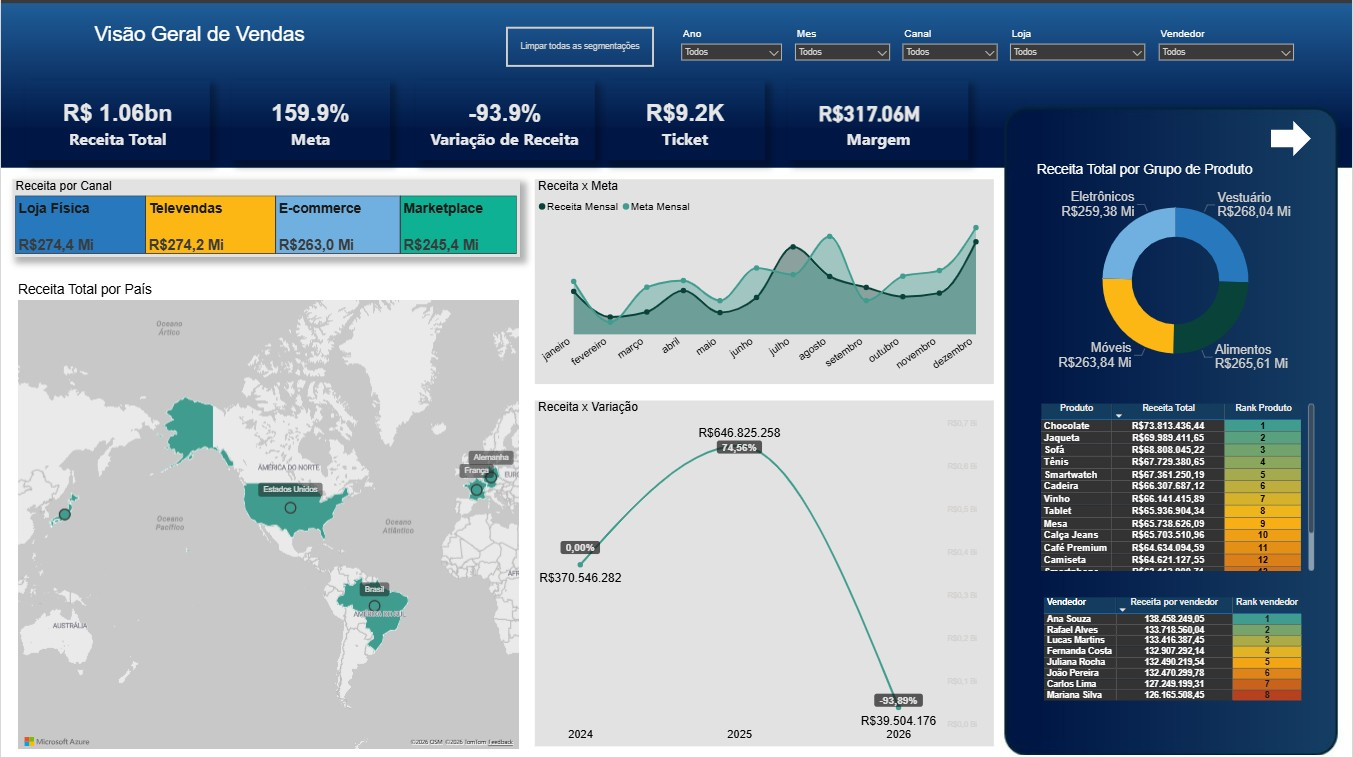

The dashboard page shown, as its layout file describes it:
{"tool":"powerbi","page":{"name":"Vendas","canvas":[2100,1200],"ordinal":0},"visuals":[{"type":"advanceCardE03760C5AB684758B56AA29F9E6C257B","fields":{"mainMeasure":["Medidas.Receita Total"]},"box":[38.7,129,285.9,124.7],"z":0},{"type":"areaChart","title":"Receita x Meta","fields":{"Category":["d_Calendario.Mes"],"Y":["Medidas.Receita Mensal"],"Y2":["Medidas.Meta Mensal"]},"box":[829.9,281.6,713.8,318.2],"z":1000},{"type":"treemap","title":"Receita por Canal","fields":{"Group":["d_canal.canal_de_venda"],"Values":["Medidas.Receita por Canal"]},"box":[18.4,282.2,789.4,120.7],"z":2000},{"type":"tableEx","fields":{"Values":["d_vendedor.nome_vendedor","Medidas.Receita por Vendedor","Medidas.Rank Vendedor"]},"box":[1615.6,926.4,421.3,192.2],"z":3000},{"type":"tableEx","fields":{"Values":["d_produto.nome_produto","Medidas.Receita Total","Medidas.Rank Produto"]},"box":[1611.5,625.8,435.6,269.9],"z":4000},{"type":"lineStackedColumnComboChart","title":"Receita x Variação","fields":{"Category":["d_Calendario.Ano"],"Y2":["Medidas.Receita Total"],"Y":["Medidas.% Crescimento YoY"]},"box":[830.3,625.8,713.7,537.8],"z":5000},{"type":"advanceCardE03760C5AB684758B56AA29F9E6C257B","fields":{"mainMeasure":["Medidas.% Atingimento Meta"]},"box":[359,129,245.1,124.7],"z":6000},{"type":"advanceCardE03760C5AB684758B56AA29F9E6C257B","fields":{"mainMeasure":["Medidas.Ticket Médio"]},"box":[939.5,129,247.2,124.7],"z":7000},{"type":"advanceCardE03760C5AB684758B56AA29F9E6C257B","fields":{"mainMeasure":["Medidas.Margem Simulada"]},"box":[1223.3,129,279.5,124.7],"z":8000},{"type":"advanceCardE03760C5AB684758B56AA29F9E6C257B","fields":{"mainMeasure":["Medidas.% Crescimento YoY (Correto)"]},"box":[645,129,277.3,124.7],"z":9000},{"type":"azureMap","fields":{"Category":["d_localizacao.pais","d_localizacao.estado","d_localizacao.cidade"]},"box":[21.5,440.7,789,731],"z":10000},{"type":"donutChart","fields":{"Category":["d_produto.categoria"],"Y":["Medidas.Receita Total"]},"box":[1605.3,253.6,441.7,345.6],"z":11000},{"type":"textbox","box":[139.1,32.7,355.8,75.7],"z":12000},{"type":"slicer","fields":{"Values":["d_tempo.ano"]},"box":[1047,40.8,176.3,88.1],"z":13000},{"type":"slicer","fields":{"Values":["d_Calendario.Mes"]},"box":[1223.3,40.8,167.7,88.1],"z":14000},{"type":"slicer","fields":{"Values":["d_canal.canal_de_venda"]},"box":[1391,40.8,167.7,88.1],"z":15000},{"type":"slicer","fields":{"Values":["d_loja.nome_loja"]},"box":[1558.7,40.8,230,88.1],"z":16000},{"type":"slicer","fields":{"Values":["d_vendedor.nome_vendedor"]},"box":[1788.7,40.8,230,88.1],"z":17000},{"type":"shape","box":[1973.6,191.3,62.3,55.9],"z":18000},{"type":"actionButton","box":[784.7,45.1,230,62.3],"z":19000}]}

Visuals, with their boxes in screenshot pixels (x1, y1, x2, y2), scaled from the page's 2100x1200 canvas onto the 1353x757 screenshot:
advanceCardE03760C5AB684758B56AA29F9E6C257B - Medidas.Receita Total: {"x1": 25, "y1": 81, "x2": 209, "y2": 160}
"Receita x Meta" areaChart: {"x1": 535, "y1": 178, "x2": 995, "y2": 378}
"Receita por Canal" treemap: {"x1": 12, "y1": 178, "x2": 520, "y2": 254}
tableEx - d_vendedor.nome_vendedor x Medidas.Receita por Vendedor: {"x1": 1041, "y1": 584, "x2": 1312, "y2": 706}
tableEx - d_produto.nome_produto x Medidas.Receita Total: {"x1": 1038, "y1": 395, "x2": 1319, "y2": 565}
"Receita x Variação" lineStackedColumnComboChart: {"x1": 535, "y1": 395, "x2": 995, "y2": 734}
advanceCardE03760C5AB684758B56AA29F9E6C257B - Medidas.% Atingimento Meta: {"x1": 231, "y1": 81, "x2": 389, "y2": 160}
advanceCardE03760C5AB684758B56AA29F9E6C257B - Medidas.Ticket Médio: {"x1": 605, "y1": 81, "x2": 765, "y2": 160}
advanceCardE03760C5AB684758B56AA29F9E6C257B - Medidas.Margem Simulada: {"x1": 788, "y1": 81, "x2": 968, "y2": 160}
advanceCardE03760C5AB684758B56AA29F9E6C257B - Medidas.% Crescimento YoY (Correto): {"x1": 416, "y1": 81, "x2": 594, "y2": 160}
azureMap - d_localizacao.pais x d_localizacao.estado: {"x1": 14, "y1": 278, "x2": 522, "y2": 739}
donutChart - d_produto.categoria x Medidas.Receita Total: {"x1": 1034, "y1": 160, "x2": 1319, "y2": 378}
textbox: {"x1": 90, "y1": 21, "x2": 319, "y2": 68}
slicer - d_tempo.ano: {"x1": 675, "y1": 26, "x2": 788, "y2": 81}
slicer - d_Calendario.Mes: {"x1": 788, "y1": 26, "x2": 896, "y2": 81}
slicer - d_canal.canal_de_venda: {"x1": 896, "y1": 26, "x2": 1004, "y2": 81}
slicer - d_loja.nome_loja: {"x1": 1004, "y1": 26, "x2": 1152, "y2": 81}
slicer - d_vendedor.nome_vendedor: {"x1": 1152, "y1": 26, "x2": 1301, "y2": 81}
shape: {"x1": 1272, "y1": 121, "x2": 1312, "y2": 156}
actionButton: {"x1": 506, "y1": 28, "x2": 654, "y2": 68}
